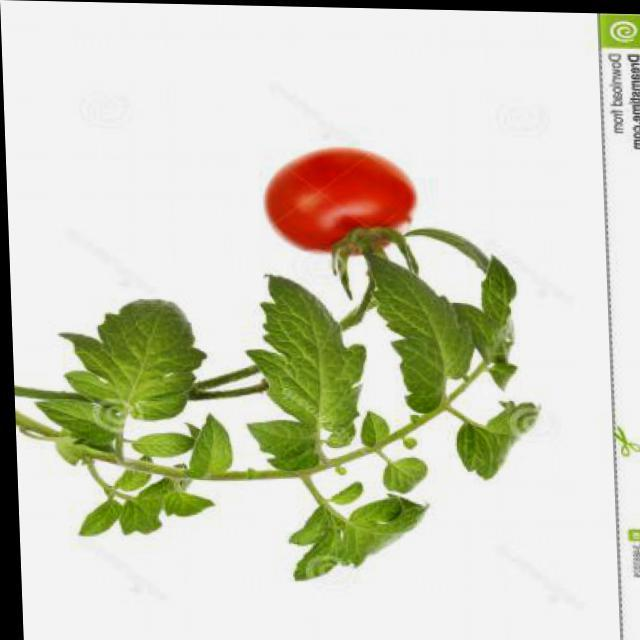Tomato bacterial spot leaf: (234, 263, 384, 487), (369, 216, 500, 444), (43, 271, 220, 438), (181, 409, 237, 485)
